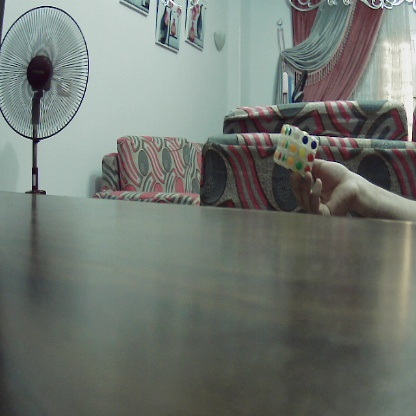Rubix Cube: (272, 124, 317, 176)
